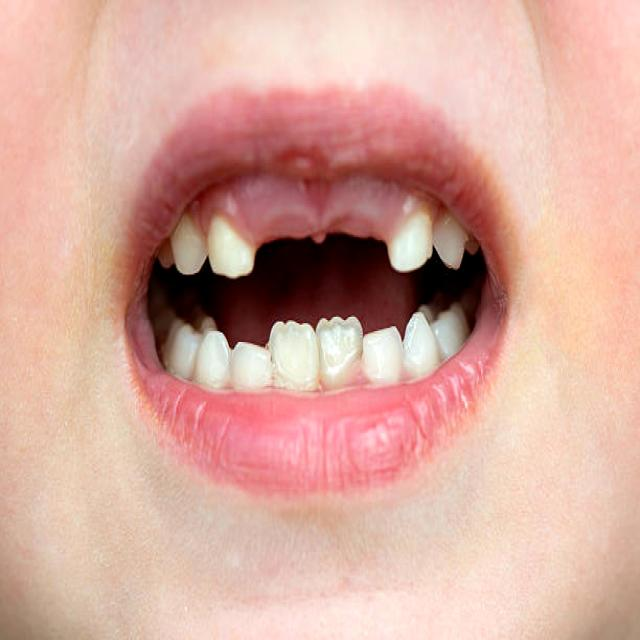hypodontia: (227, 209, 401, 282)
